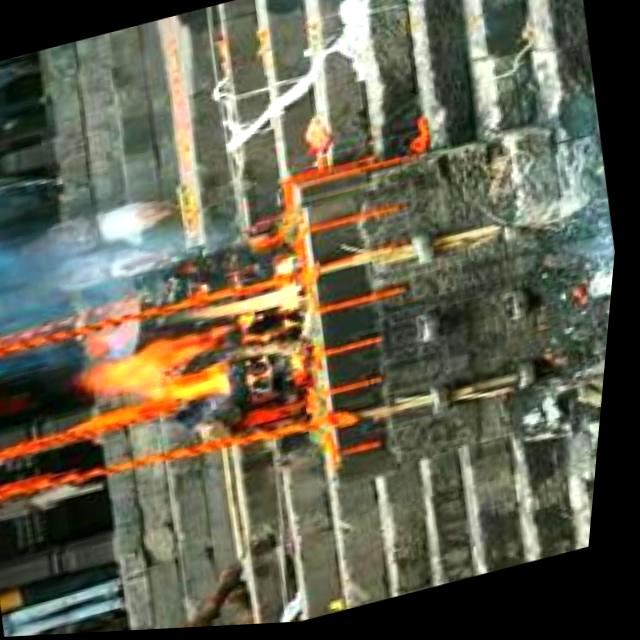fire: (64, 277, 328, 433)
